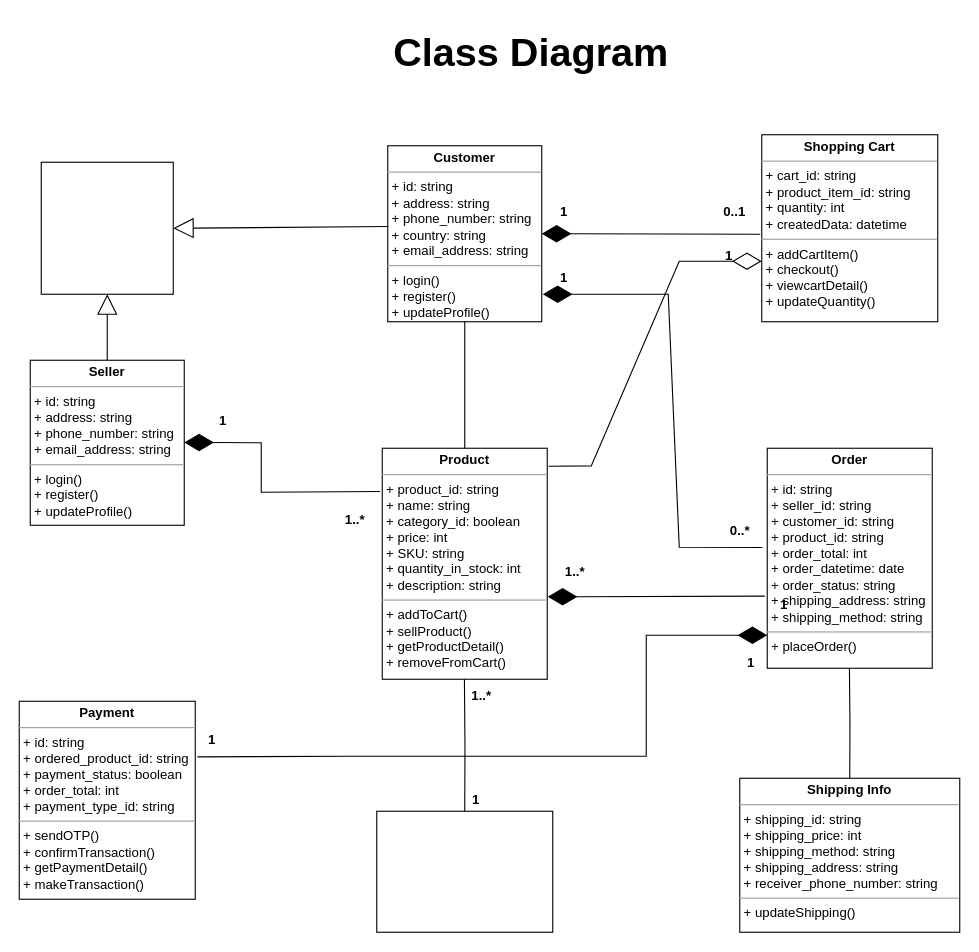
This 979x952 diagram has some shape labels left out. Here are the shapes that lost their labels. From the top down, the centre of each, then its label:
At point (106, 227): "User + role: boolean + user_id: string + password: string + verifyUser()".
At point (464, 871): "Product Category + id: string + category_name: string + add() + view()".
